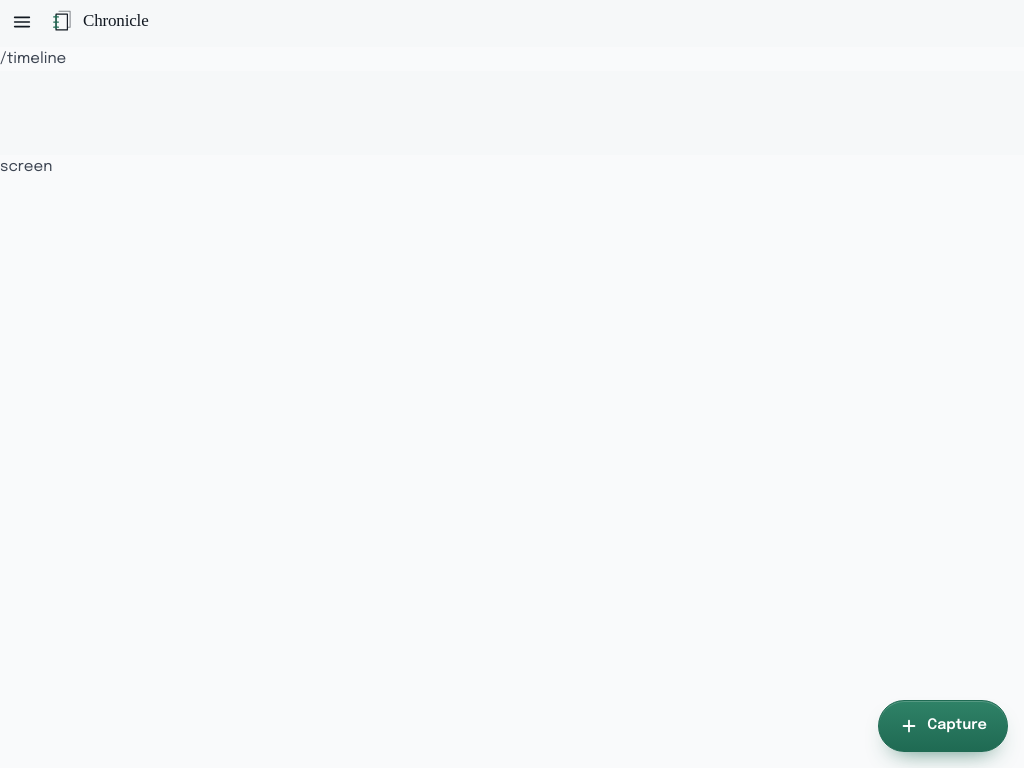
Test: mobile drawer › indicates the current destination
Step 1. Click the button with test id "nav-menu-button" → x=22, y=22, box [0,0,44,44]
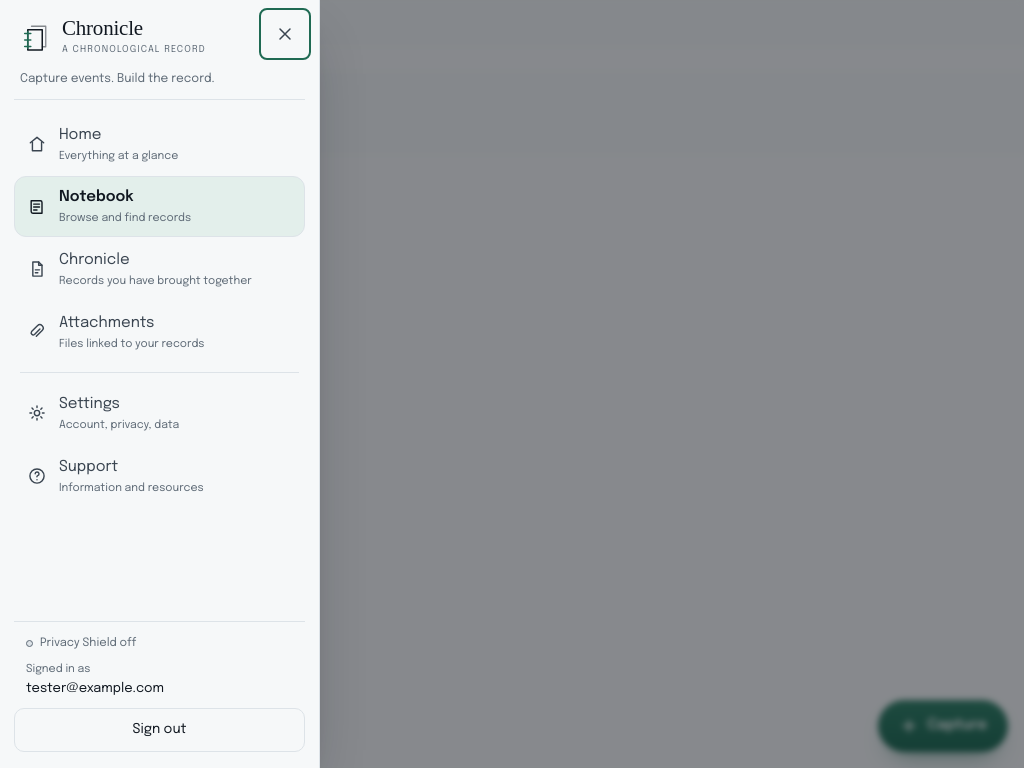
Now the dialog with test id "nav-drawer" is shown, box [0,0,320,767]
